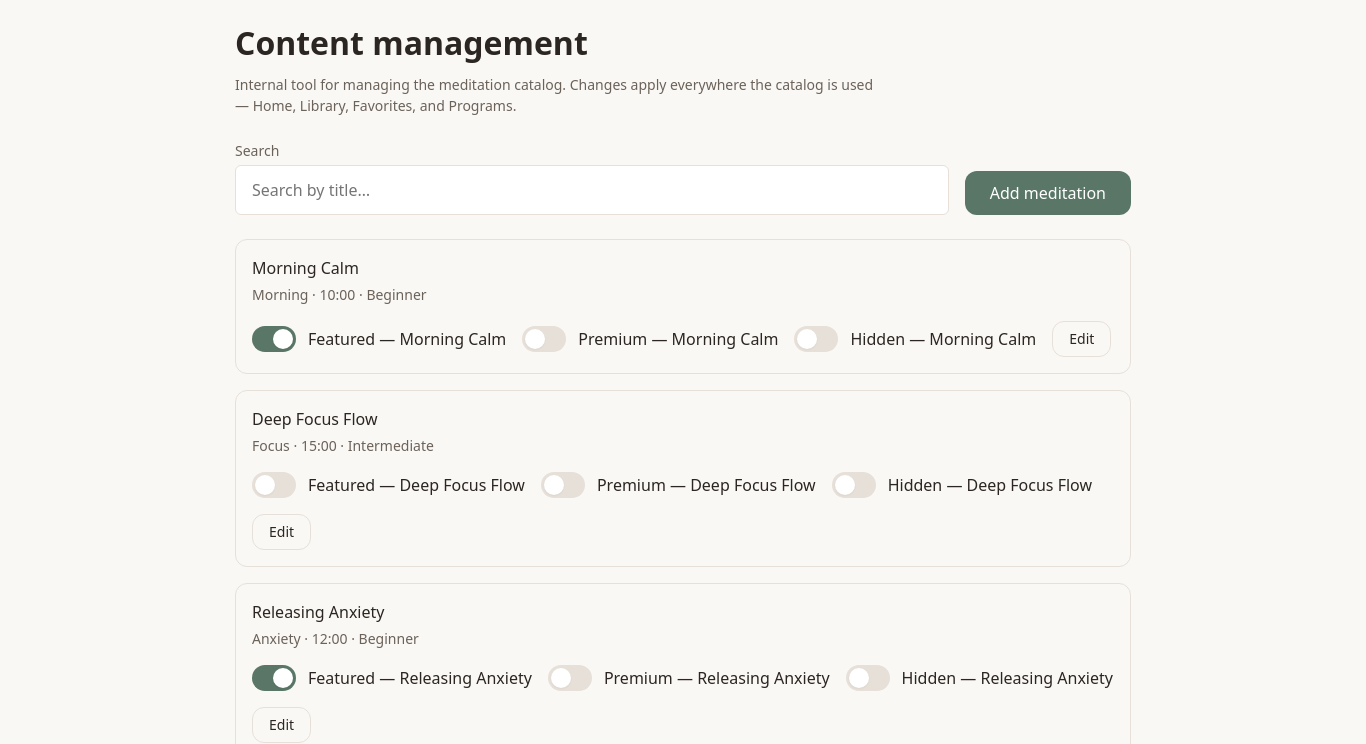
Scenario: AdminPage › deletes a custom meditation but has no delete action for shipped content
Check: the button "Delete" is not shown
Click the button "Add meditation".
click(1048, 193)  # box x1=965 y1=171 x2=1131 y2=215
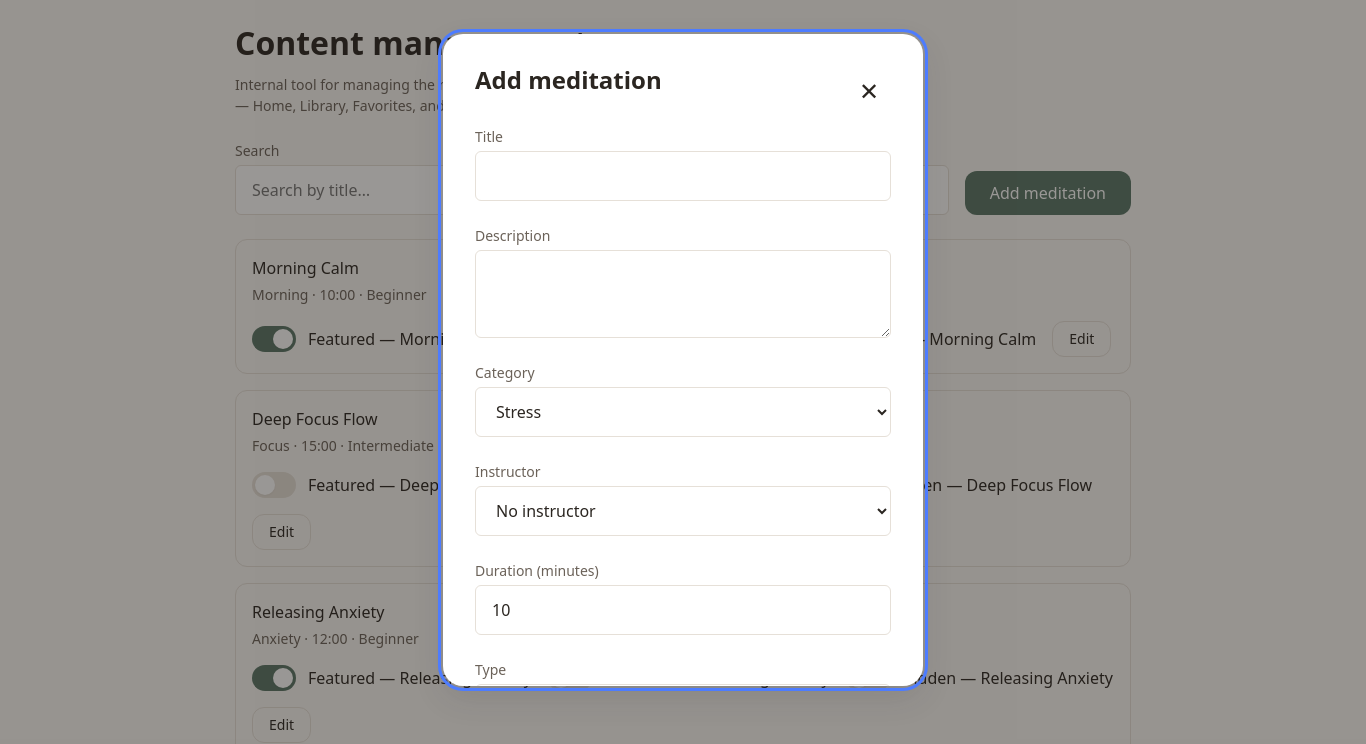
Type "Lunch Reset" into the field labelled "Title".
click(683, 176); type("Lunch Reset")  # box x1=475 y1=151 x2=891 y2=201
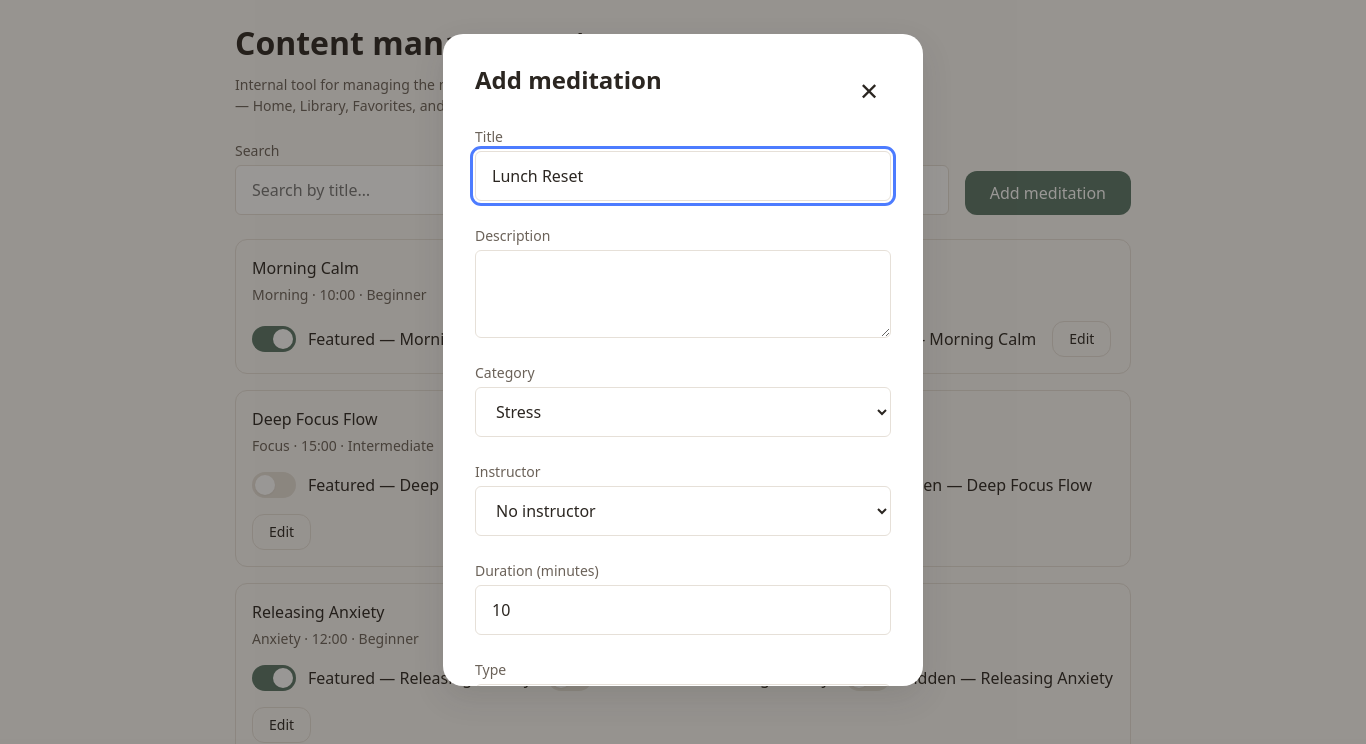
Type "A short reset for the middle of the day." into the text box labelled "Description".
click(683, 294); type("A short reset for the middle of the day.")  # box x1=475 y1=250 x2=891 y2=338
(page scrolled)
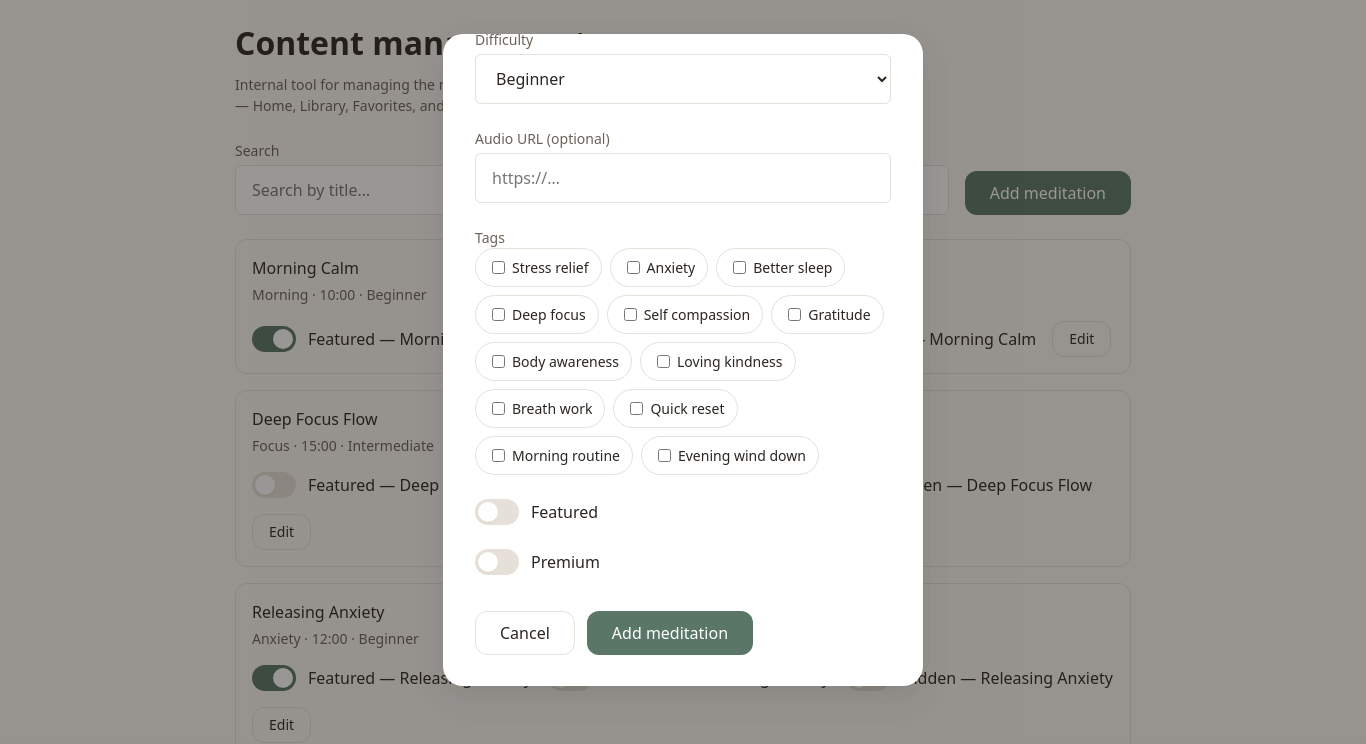
Click the button "Add meditation".
click(670, 633)  # box x1=587 y1=611 x2=753 y2=655
(page scrolled)
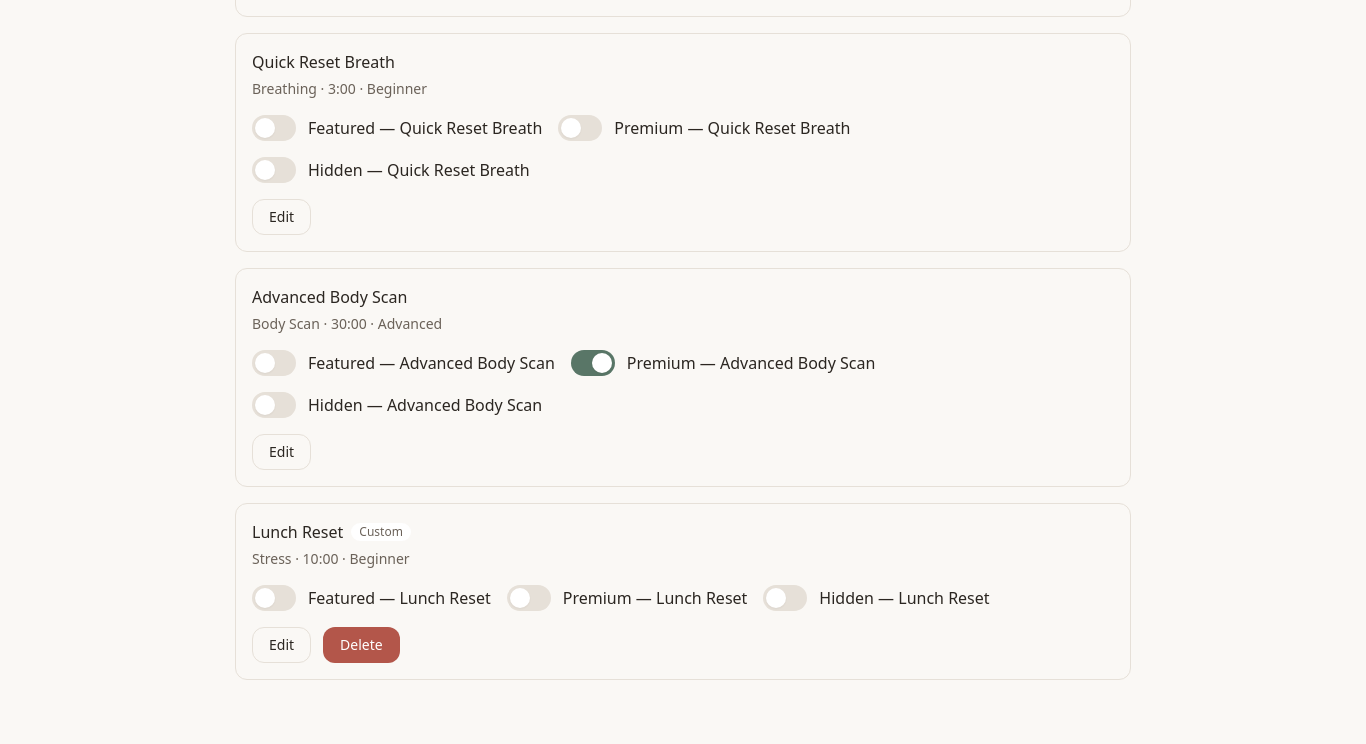
Check: the text "Lunch Reset" is shown, box x1=252 y1=521 x2=343 y2=543
Click the button "Delete".
click(361, 645)  # box x1=323 y1=627 x2=400 y2=663
(page scrolled)
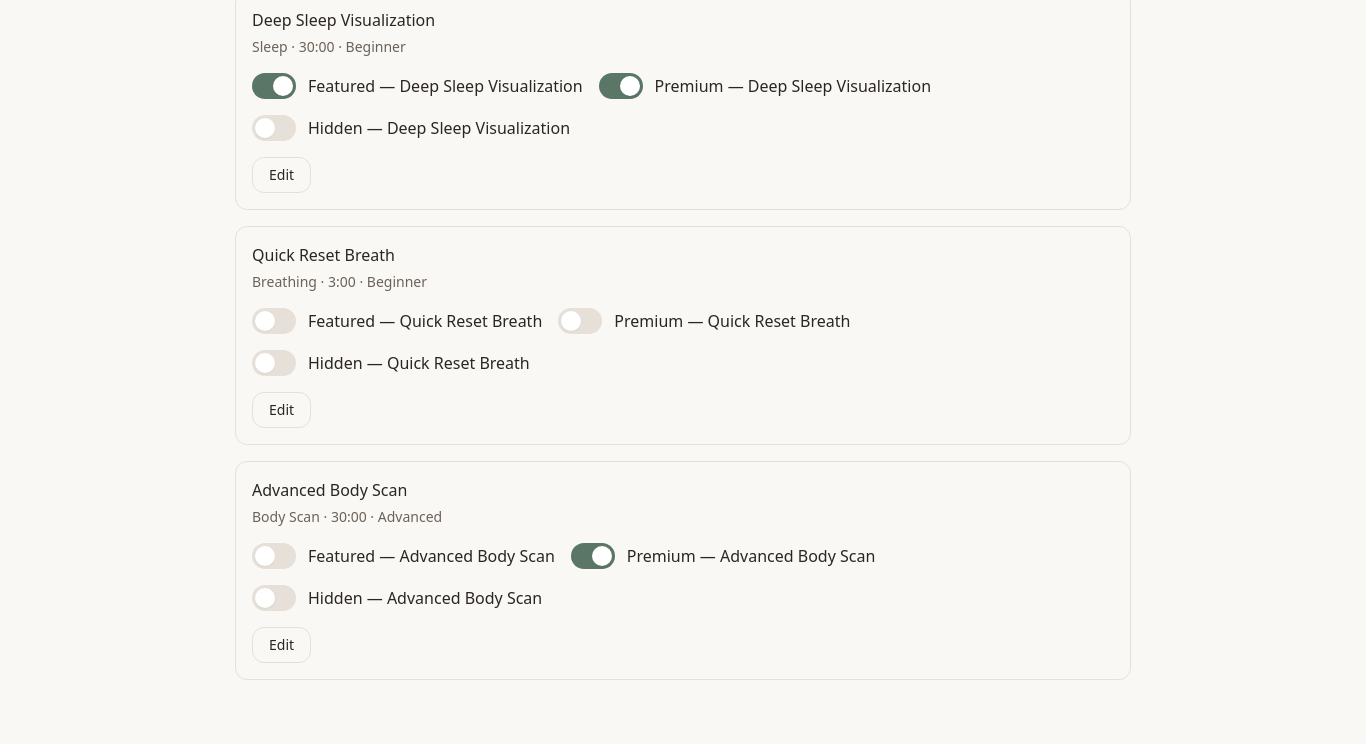
Check: the text "Lunch Reset" is gone
